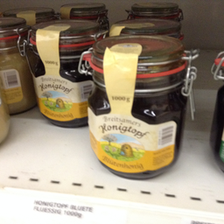honey: (74, 36, 204, 181), (21, 20, 106, 132)
